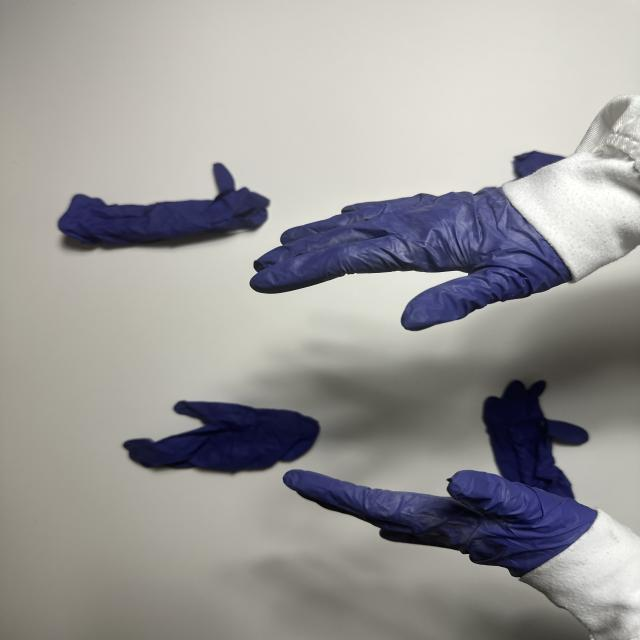gloves_contaminated: (250, 188, 570, 330), (284, 470, 595, 577)
